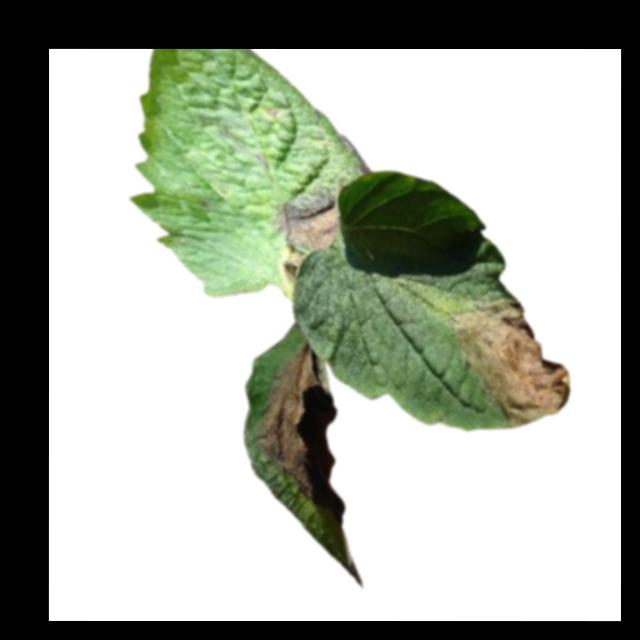Late_blight: (448, 299, 572, 430), (261, 340, 315, 500), (274, 191, 342, 253), (281, 254, 307, 285)
